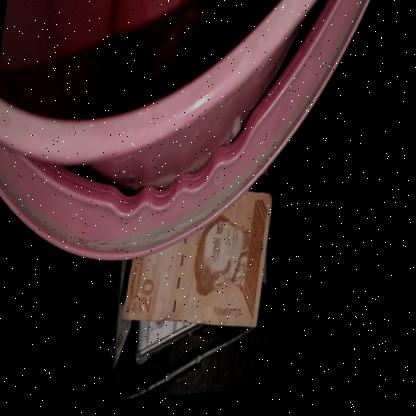twenty-front-vef: (126, 190, 279, 344)
